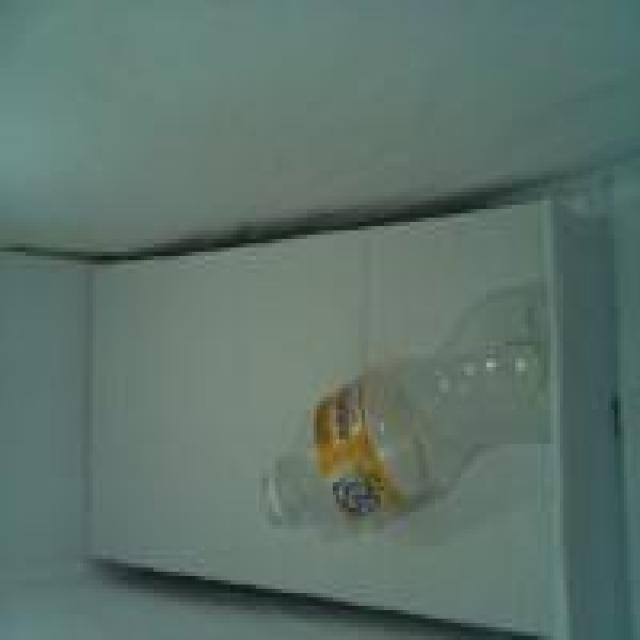bottle: (265, 286, 551, 532)
